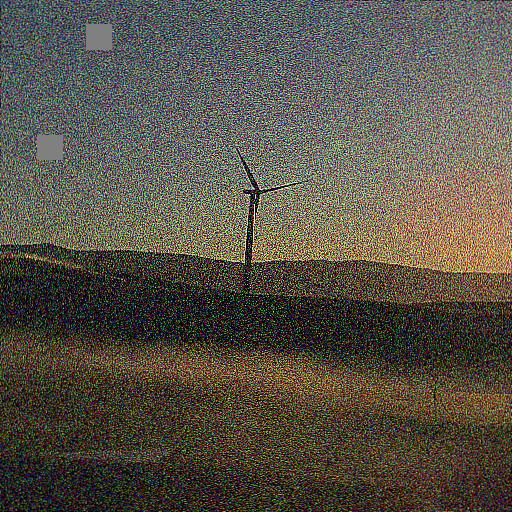wind turbine: (231, 144, 307, 293)
